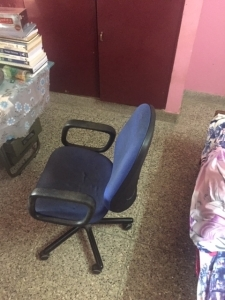chair: (29, 104, 156, 274)
